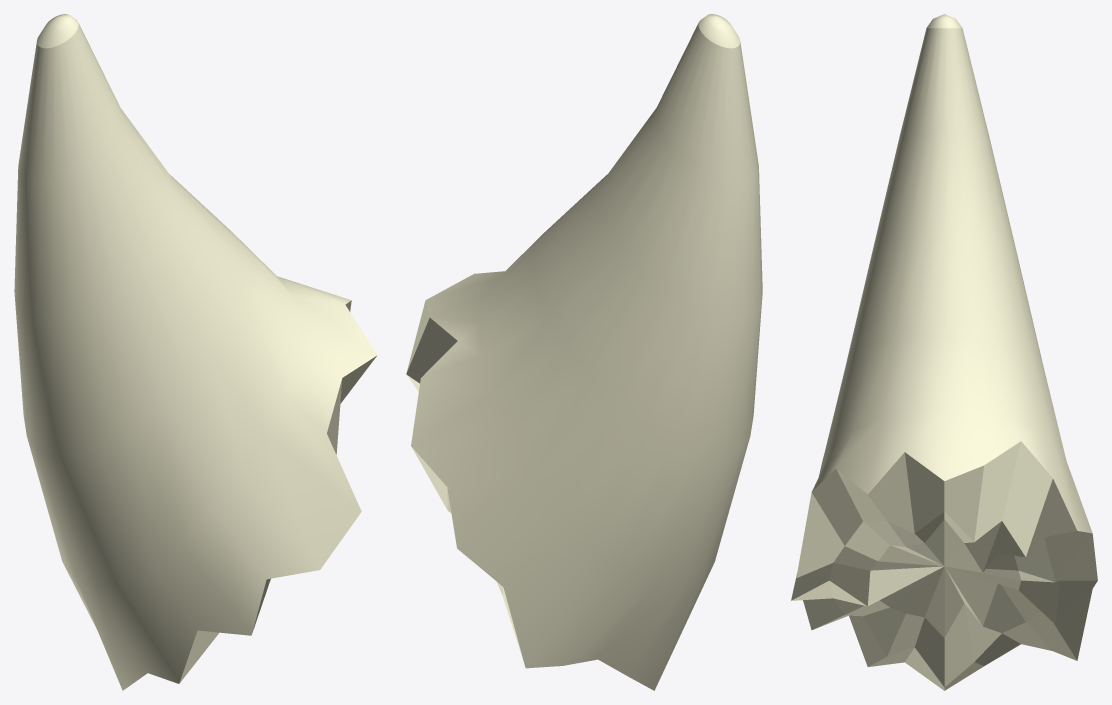
File: Tooth.FBX
The picture shows the model from 3 angles, left to right: view 1: azimuth 30°, elevation 25°; view 2: azimuth 150°, elevation 25°; view 3: azimuth 270°, elevation 25°; orthographic projection. The views are drawn at different scales.
Parts seen in each view (by area): view 1: Cone001; view 2: Cone001; view 3: Cone001.
Part boxes in pixels (x1,y1,x2,y2): Cone001: [14, 14, 377, 690]; Cone001: [406, 14, 762, 690]; Cone001: [791, 14, 1097, 690].
Bounding box in the file's own units: 1.48 × 2.95 × 1.27.
